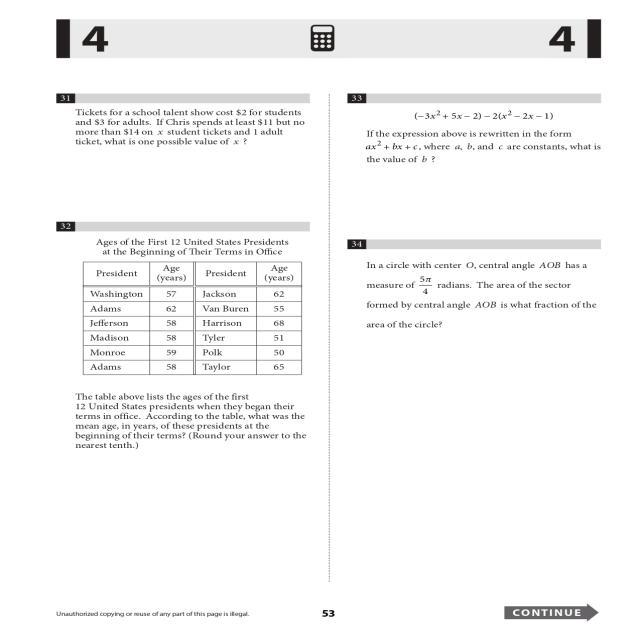Question_Answer_Block: (49, 218, 324, 454), (337, 236, 615, 346), (337, 86, 615, 172), (49, 89, 324, 156)
Question_Block: (49, 218, 324, 454), (337, 236, 615, 346), (337, 86, 615, 172), (49, 89, 324, 156)
Question_Paper_Area: (337, 87, 615, 580), (49, 90, 324, 578)
